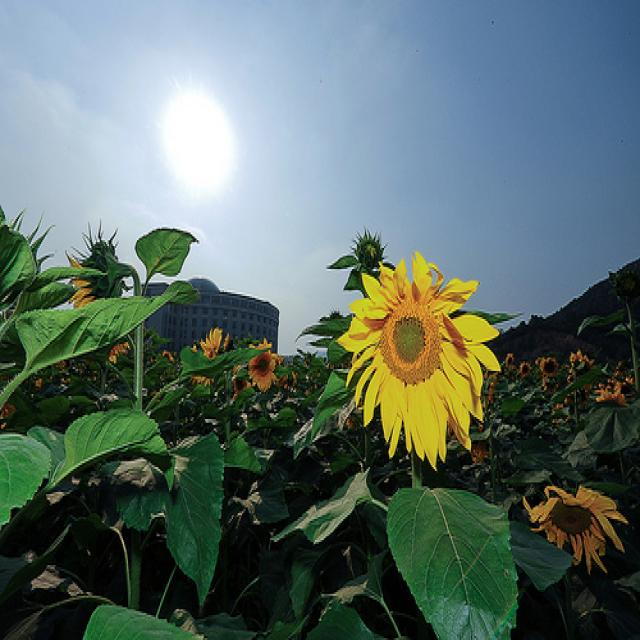sunflower: (334, 244, 501, 477), (518, 474, 628, 579), (250, 334, 280, 392), (539, 350, 559, 380), (518, 356, 539, 380)
